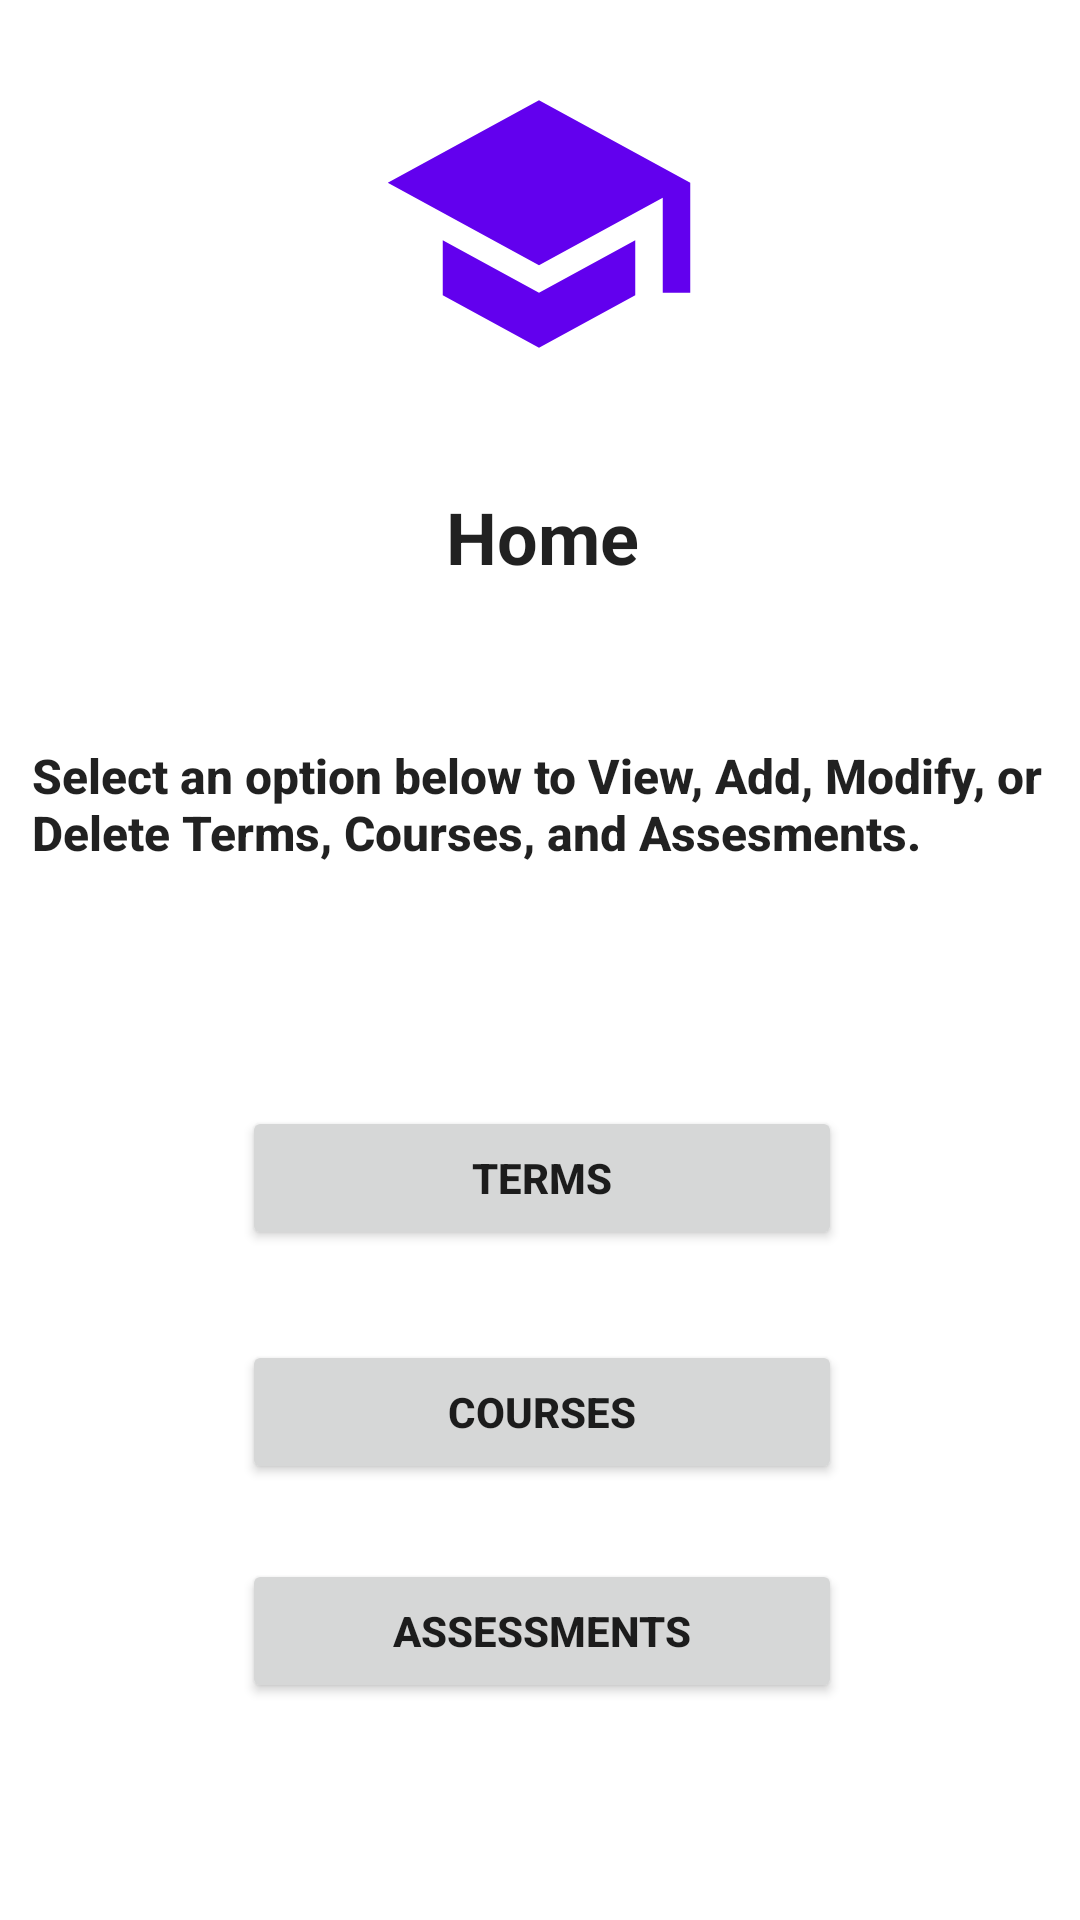

Named icons in this screenshot (1080x1920) and their bounding boxes, [left=x1, top=y1, right=x2, bottom=y2]:
school: [left=388, top=100, right=691, bottom=348]
